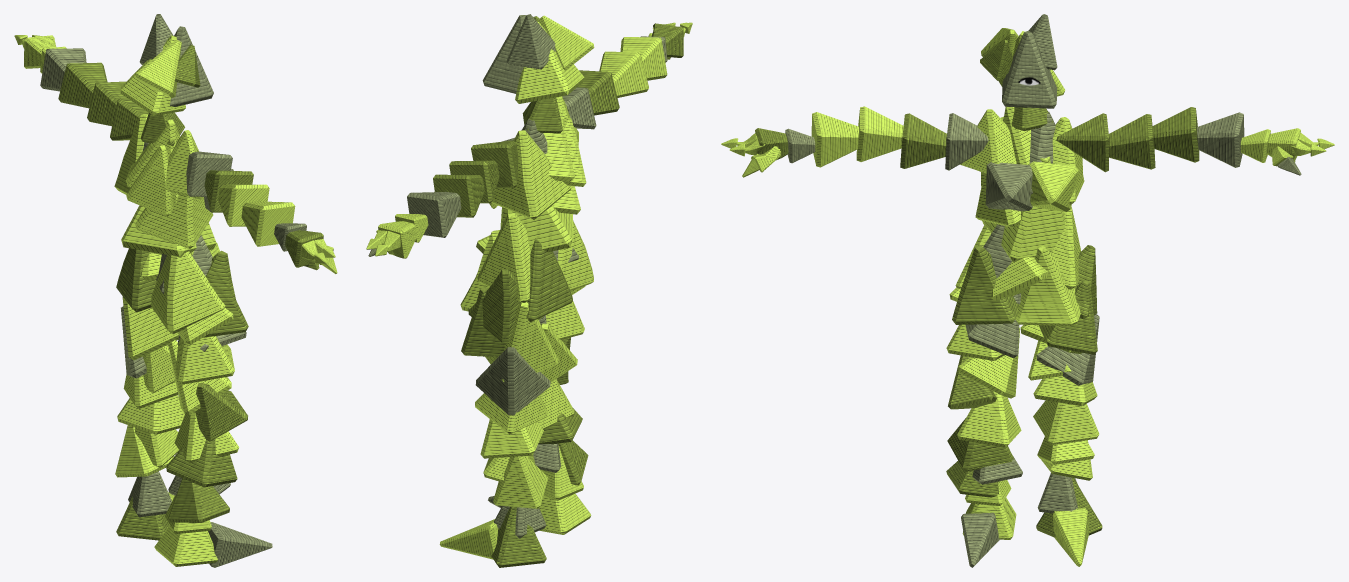
The model's file is avatars_tposing_triangle_character.glb.
3 renders of one model, left to right at view 1: azimuth 30°, elevation 25°; view 2: azimuth 150°, elevation 25°; view 3: azimuth 270°, elevation 25°, orthographic. The views are drawn at different scales.
Parts seen in each view (by area): view 1: polySurface92; view 2: polySurface92; view 3: polySurface92.
Boxes of the visible parts, x1=… form: polySurface92: x1=14, y1=14, x2=337, y2=567; polySurface92: x1=366, y1=14, x2=692, y2=567; polySurface92: x1=721, y1=14, x2=1334, y2=567.
Size of the model in its own units: 0.9924 by 4.19 by 4.47.
1 material, 1 textured.
